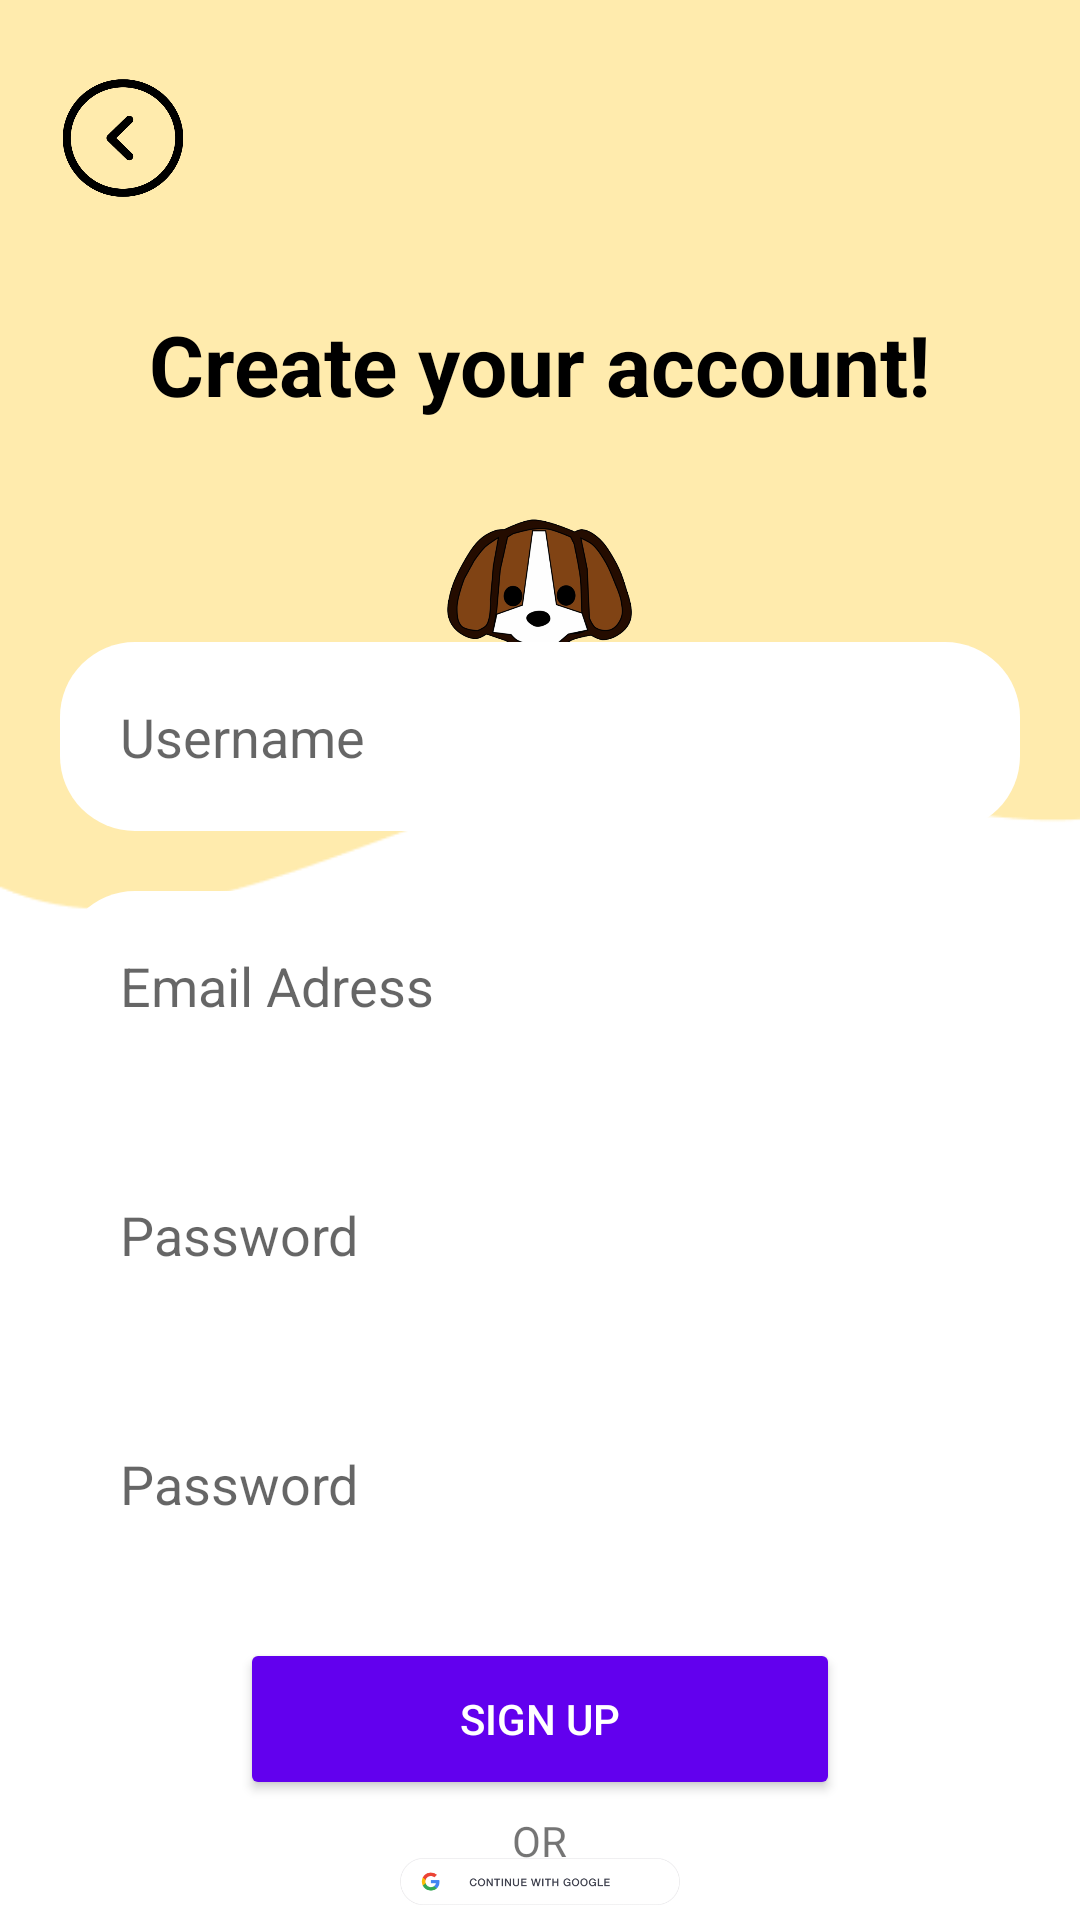

Where icons sit on this 1080px×1920px app screen, as (left=x1, top=y1, right=x2, bottom=y2):
assetdog: (left=406, top=519, right=673, bottom=660)
back: (left=63, top=79, right=183, bottom=197)
